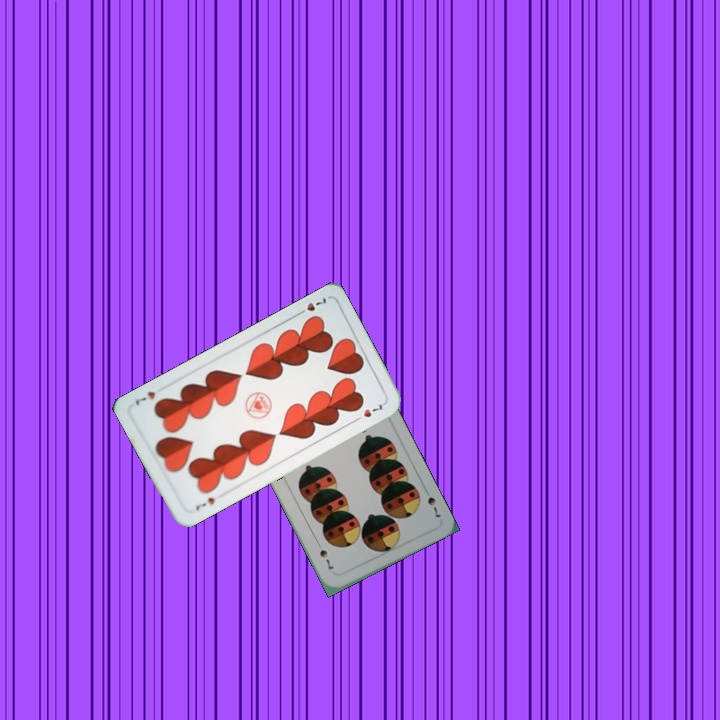H7: (293, 293, 329, 318), (191, 493, 217, 513)
S7: (420, 484, 444, 522)
